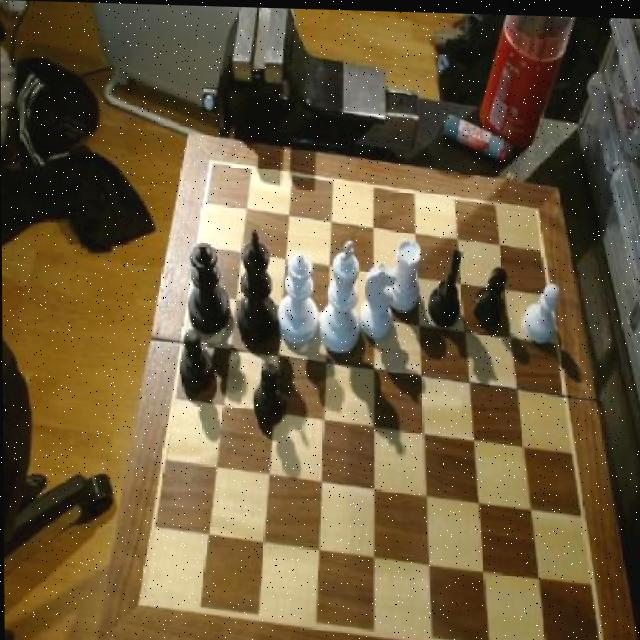black-bishop: (232, 224, 276, 345)
black-king: (427, 241, 468, 327)
black-knight: (177, 326, 215, 395), (470, 262, 509, 328), (250, 358, 286, 428)
black-pawn: (185, 238, 230, 335)
white-bishop: (315, 237, 362, 354)
white-king: (357, 258, 394, 341)
white-knight: (521, 278, 562, 345)
white-pawn: (274, 250, 319, 349)
white-queen: (381, 235, 422, 316)
